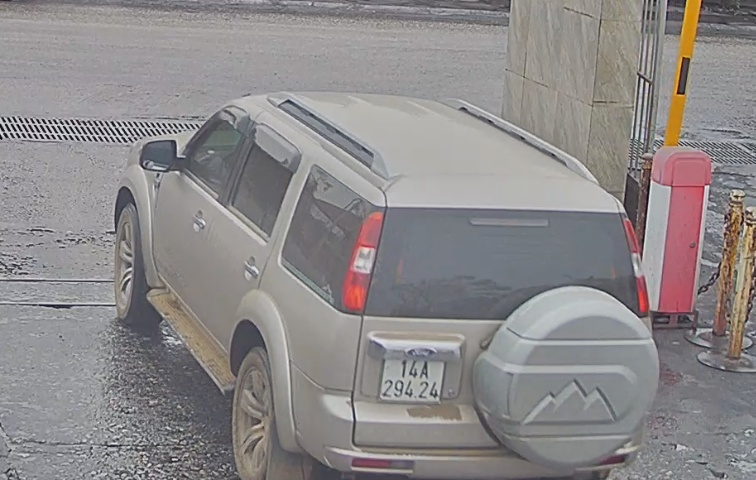vehicle plate: (376, 348, 448, 405)
